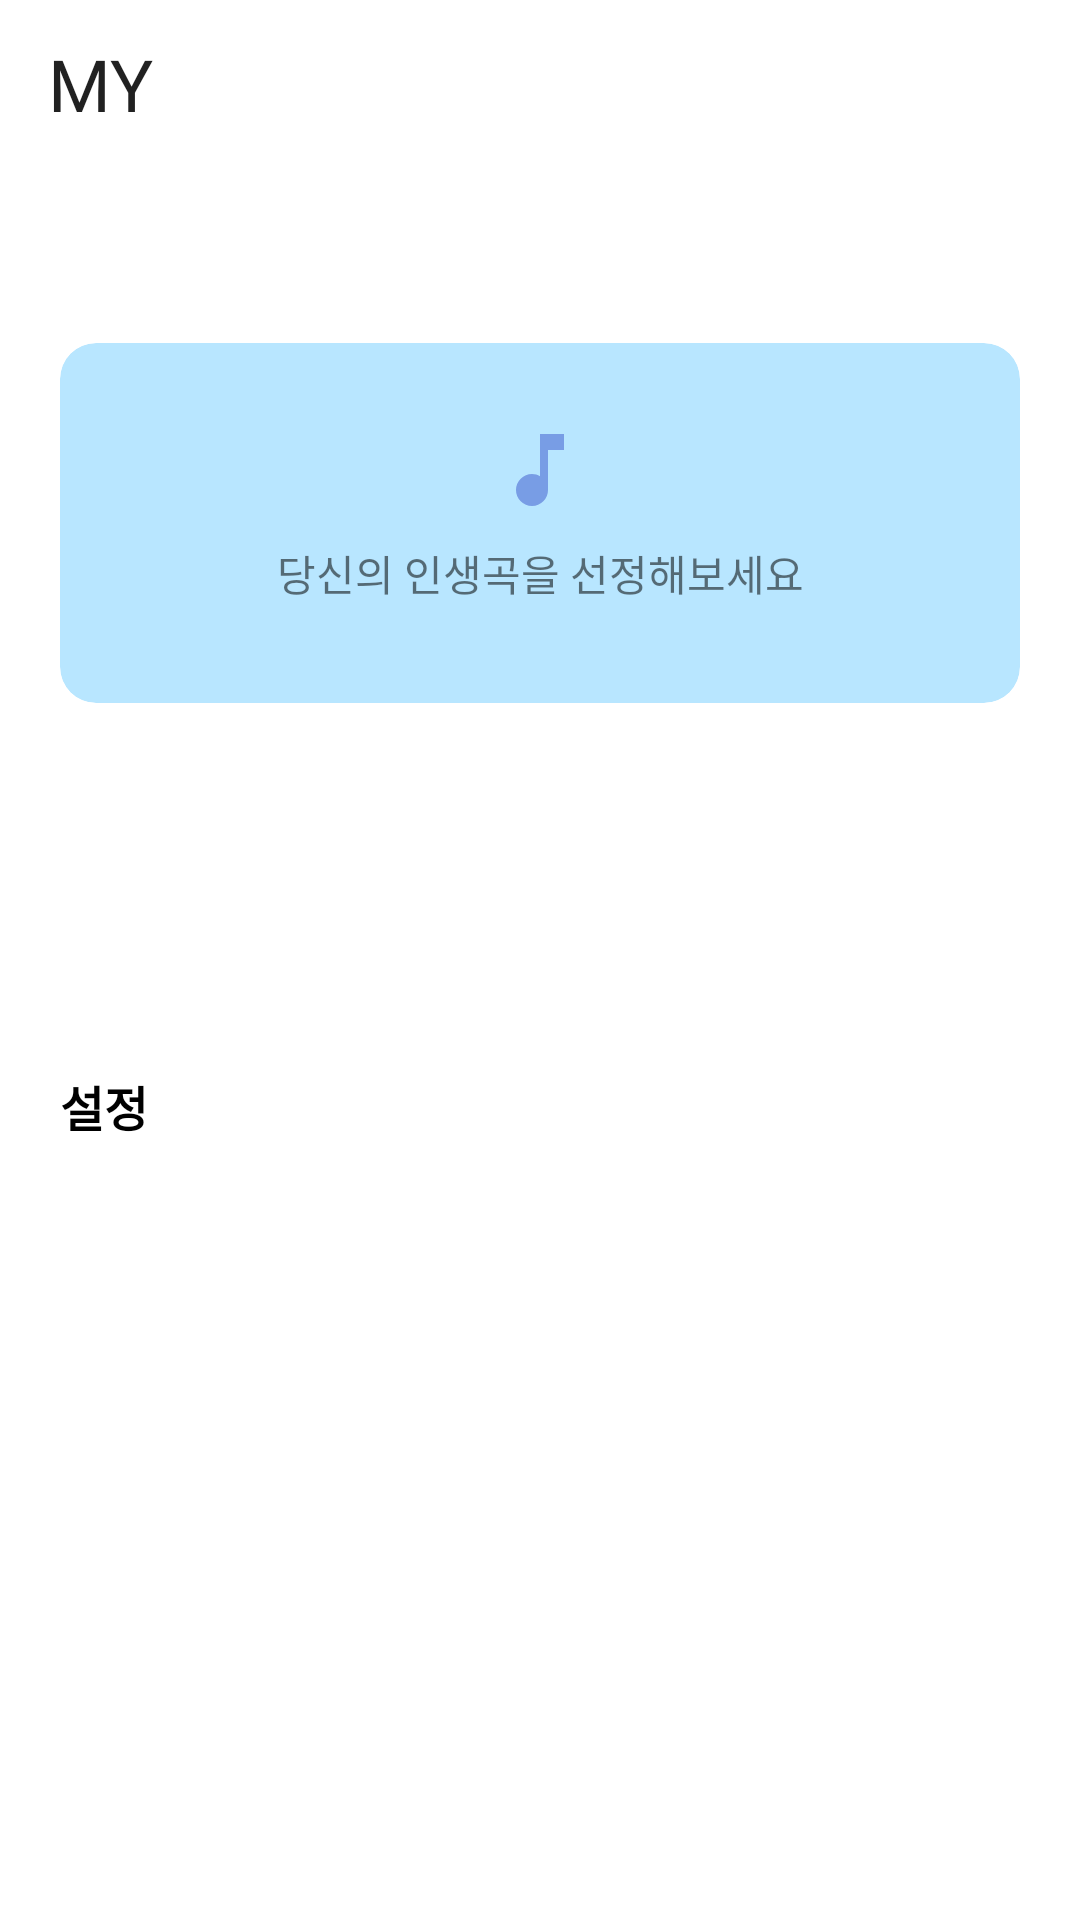

Screen size 1080px×1920px. Icon name, then its box in pixels as bbox=(x1, y1, x2, y2):
music: bbox=(516, 434, 564, 506)
